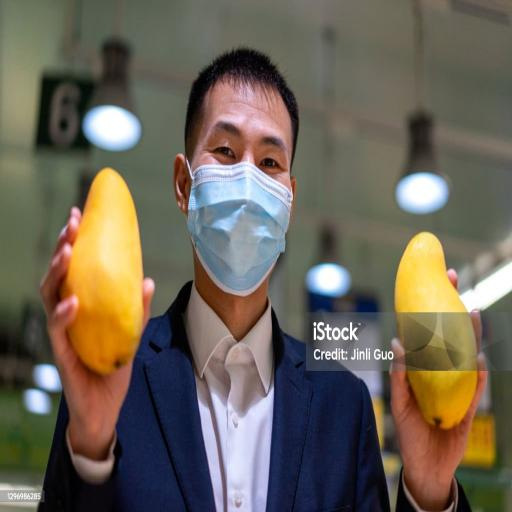mango: (61, 169, 142, 373), (395, 232, 476, 428)
